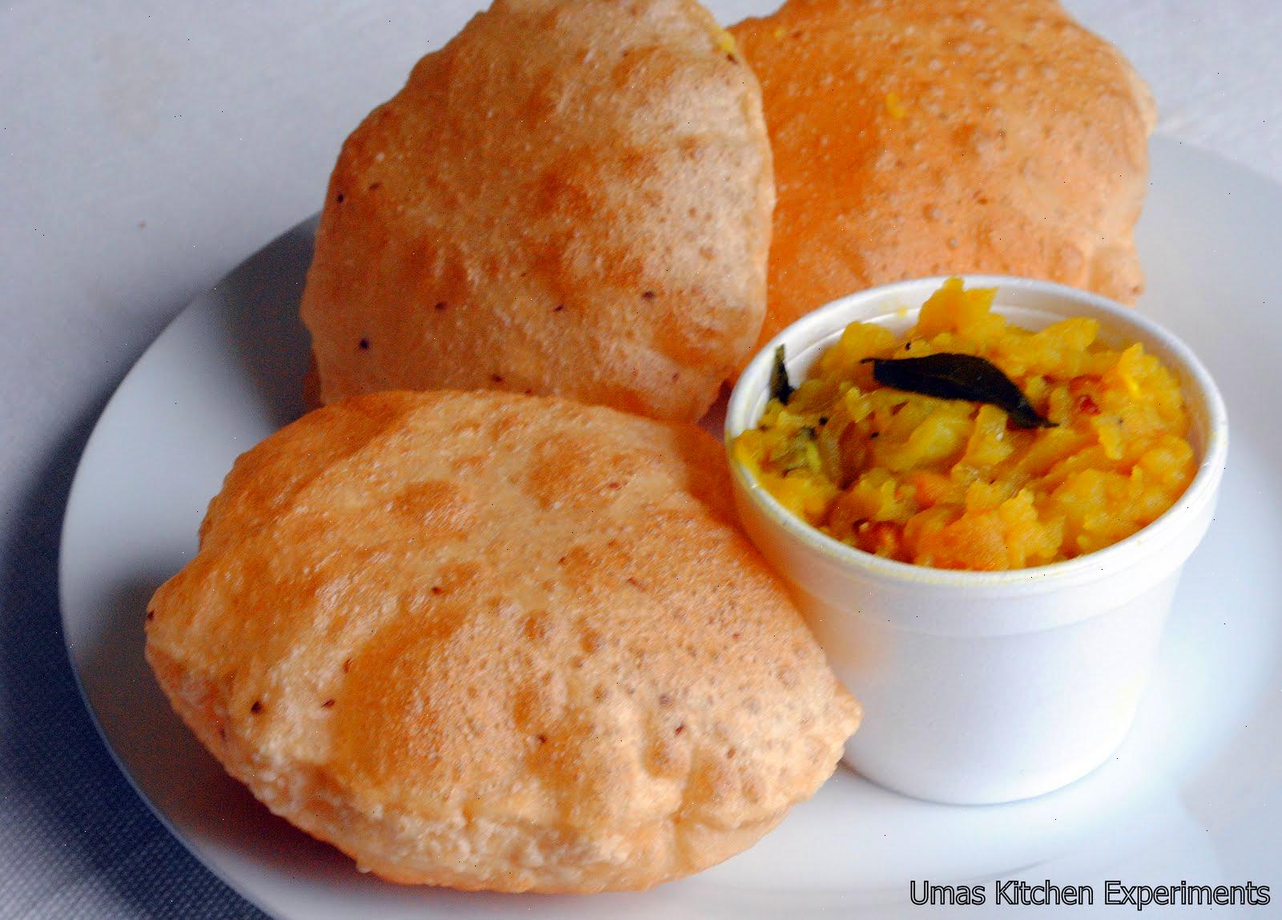puri: (155, 0, 783, 898)
